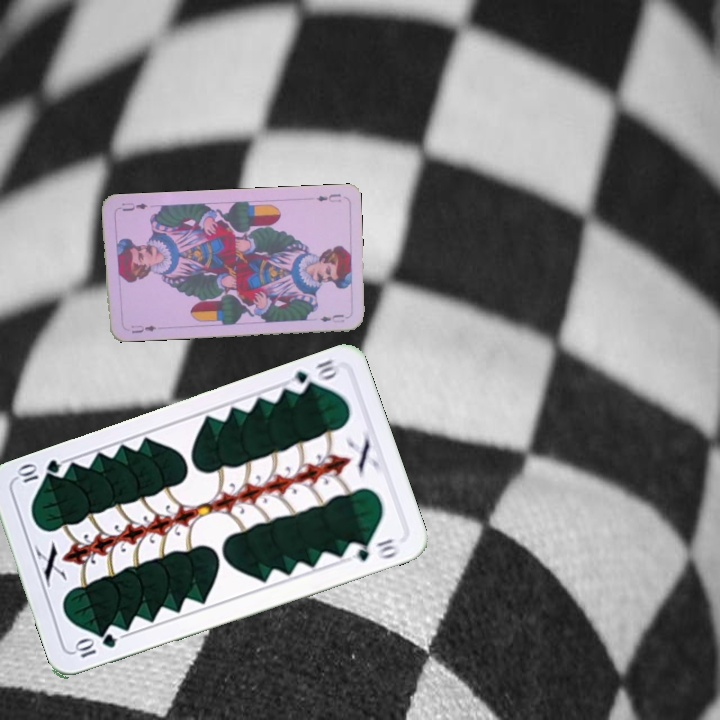EU: (127, 321, 159, 336), (313, 190, 344, 204)
G10: (285, 355, 343, 396), (71, 630, 120, 661)
